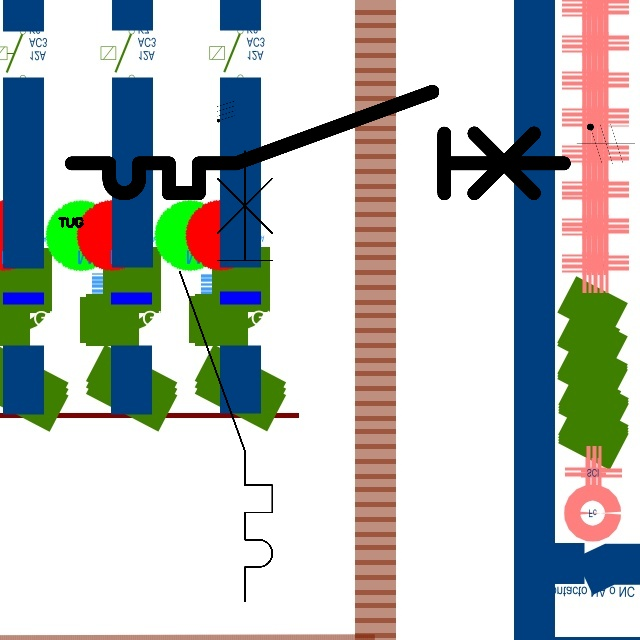interruptor_termomagnetico: (59, 79, 576, 206), (168, 139, 284, 613)
